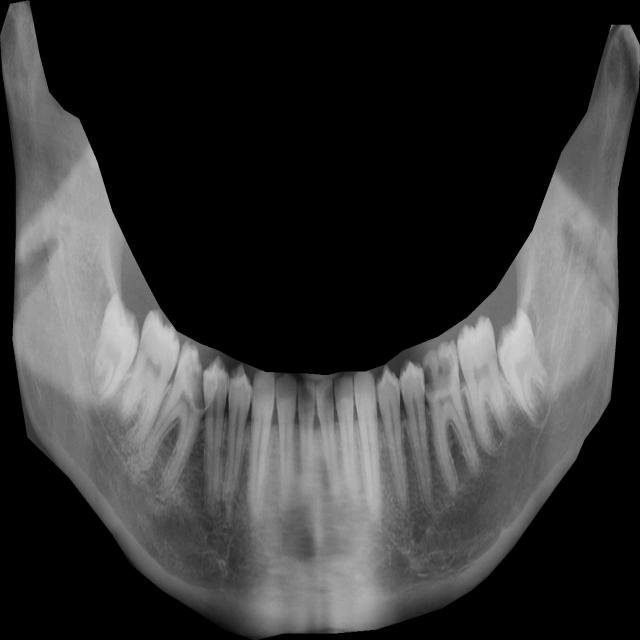mandibula: (0, 0, 640, 640)
